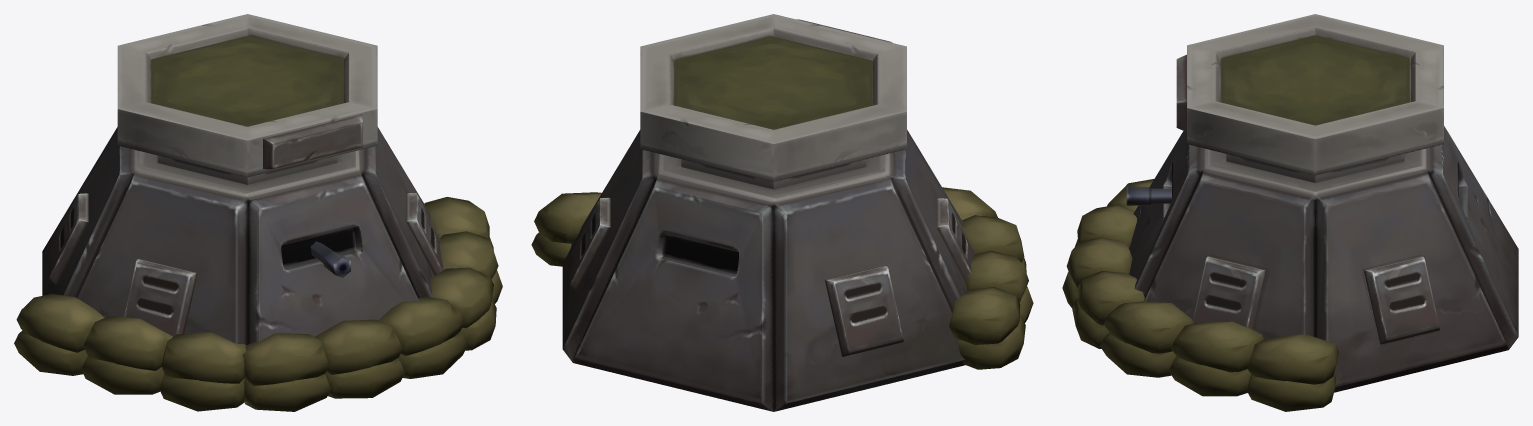
The model's file is xinjiqiangbao.FBX.
The picture shows the model from 3 angles, left to right: view 1: azimuth 30°, elevation 25°; view 2: azimuth 150°, elevation 25°; view 3: azimuth 270°, elevation 25°; orthographic projection. The views are drawn at different scales.
Visible parts, largest first — view 1: jiqiangbao_new_b_01; view 2: jiqiangbao_new_b_01; view 3: jiqiangbao_new_b_01.
Part boxes in pixels (x1,y1,x2,y2): jiqiangbao_new_b_01: (14, 14, 502, 411); jiqiangbao_new_b_01: (531, 14, 1033, 411); jiqiangbao_new_b_01: (1062, 14, 1518, 411).
Bounding box in the file's own units: 557 × 272 × 485.
